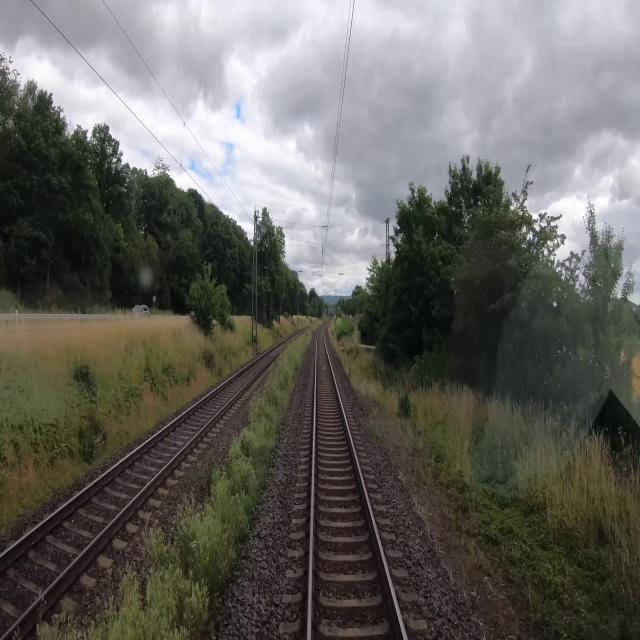Plant: (34, 319, 322, 639)
